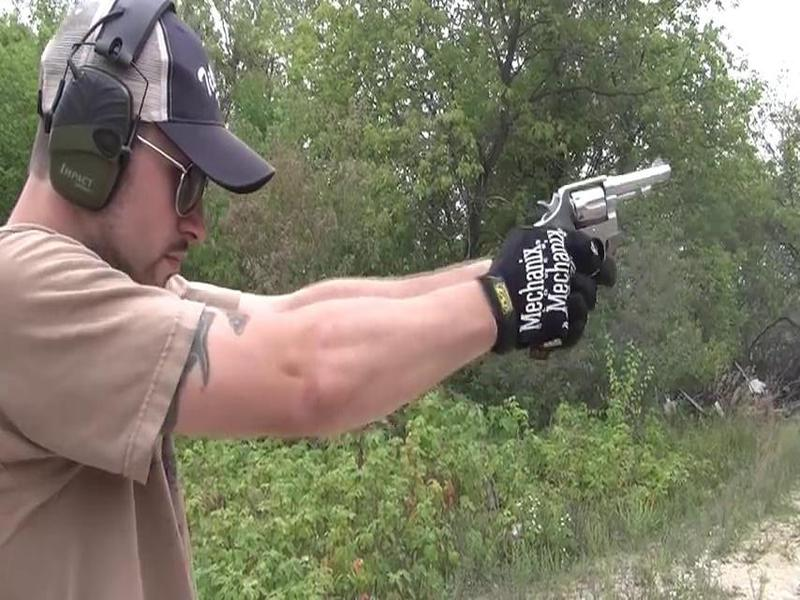Revolver: (530, 149, 678, 272)
